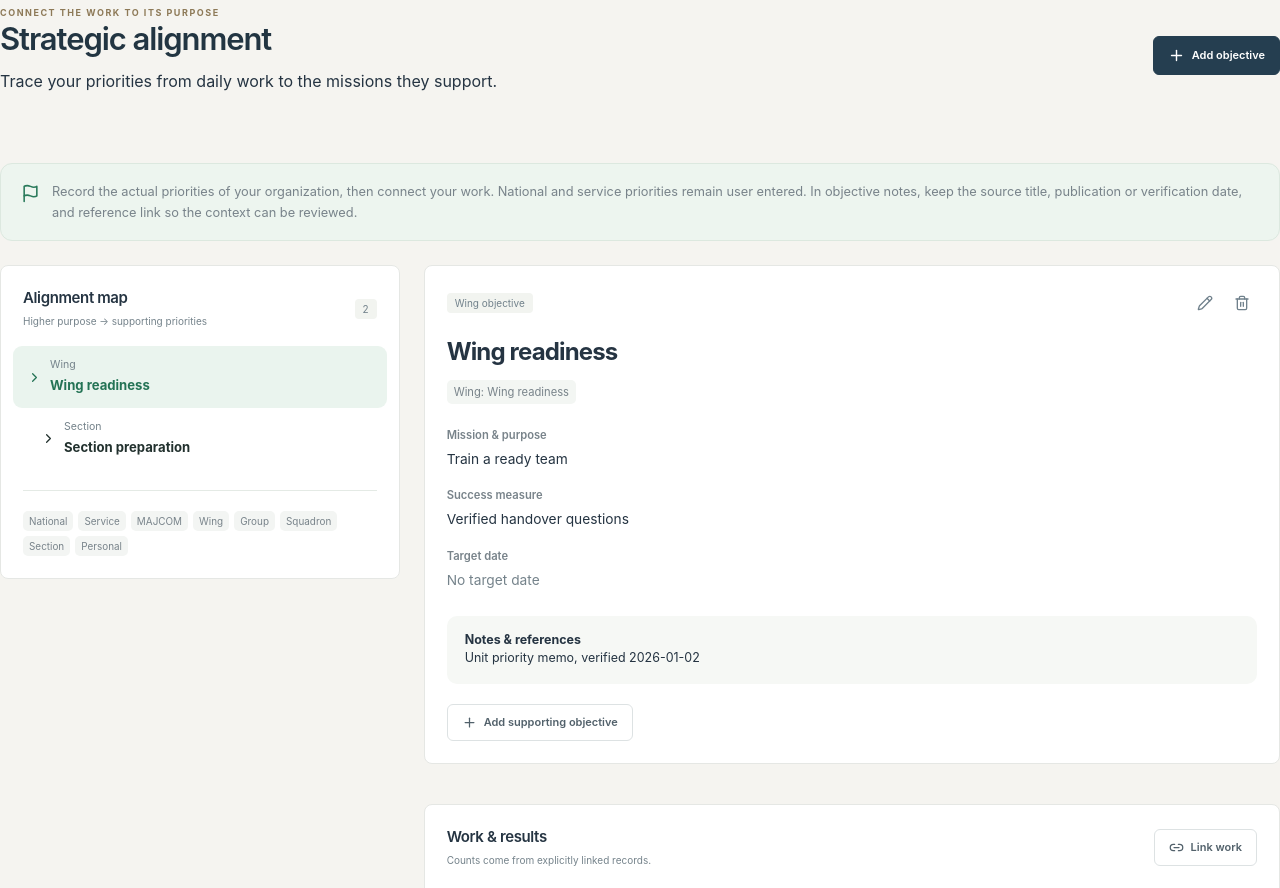
strategy alignment workflows › rejects a circular parent even if a disabled option is set programmatically
Click the button named "Edit objective: Wing readiness". click: (1205,303)
box: [1190, 288, 1220, 318]
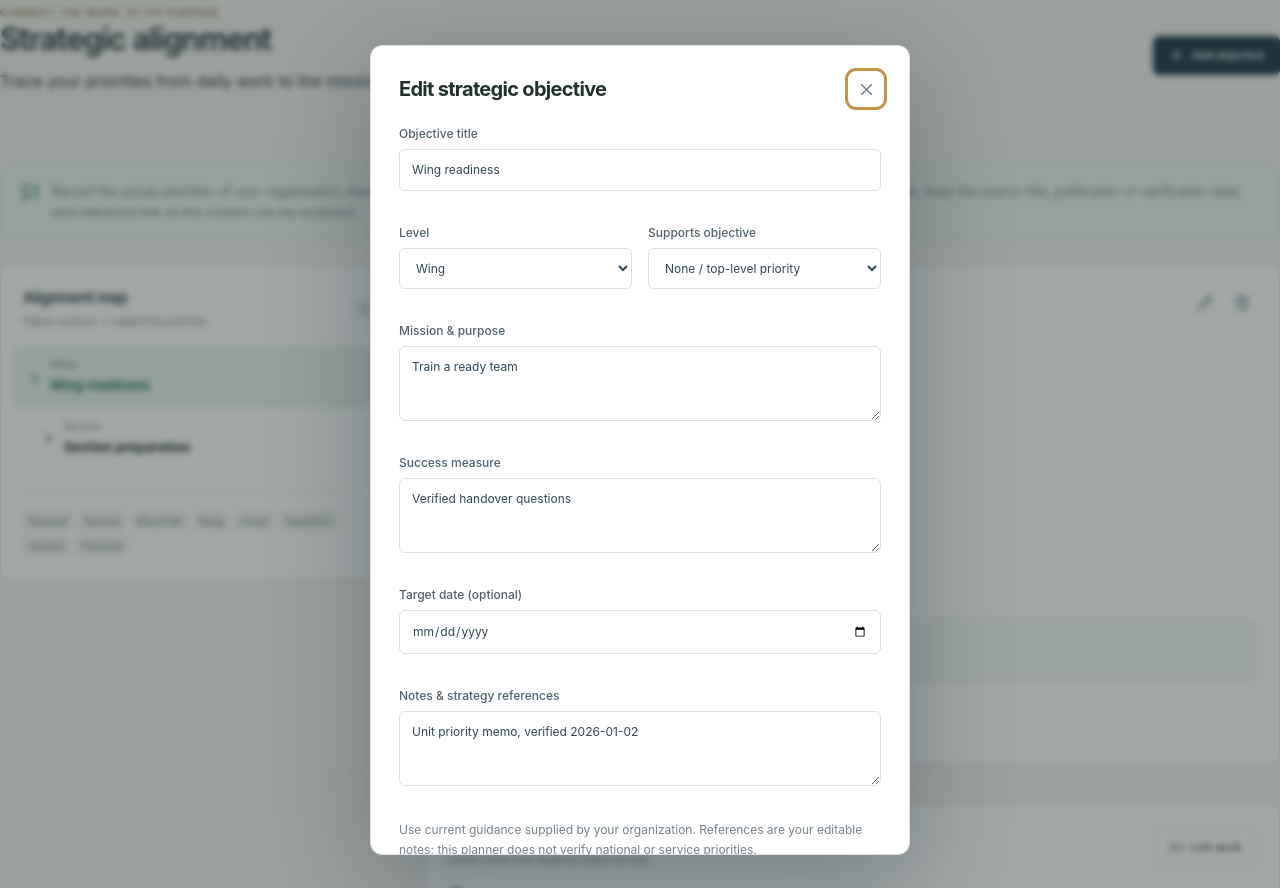
Select "Section: Section preparation" in the dropdown labelled "Supports objective". click: (764,268)
box: [648, 248, 881, 289]
(page scrolled)
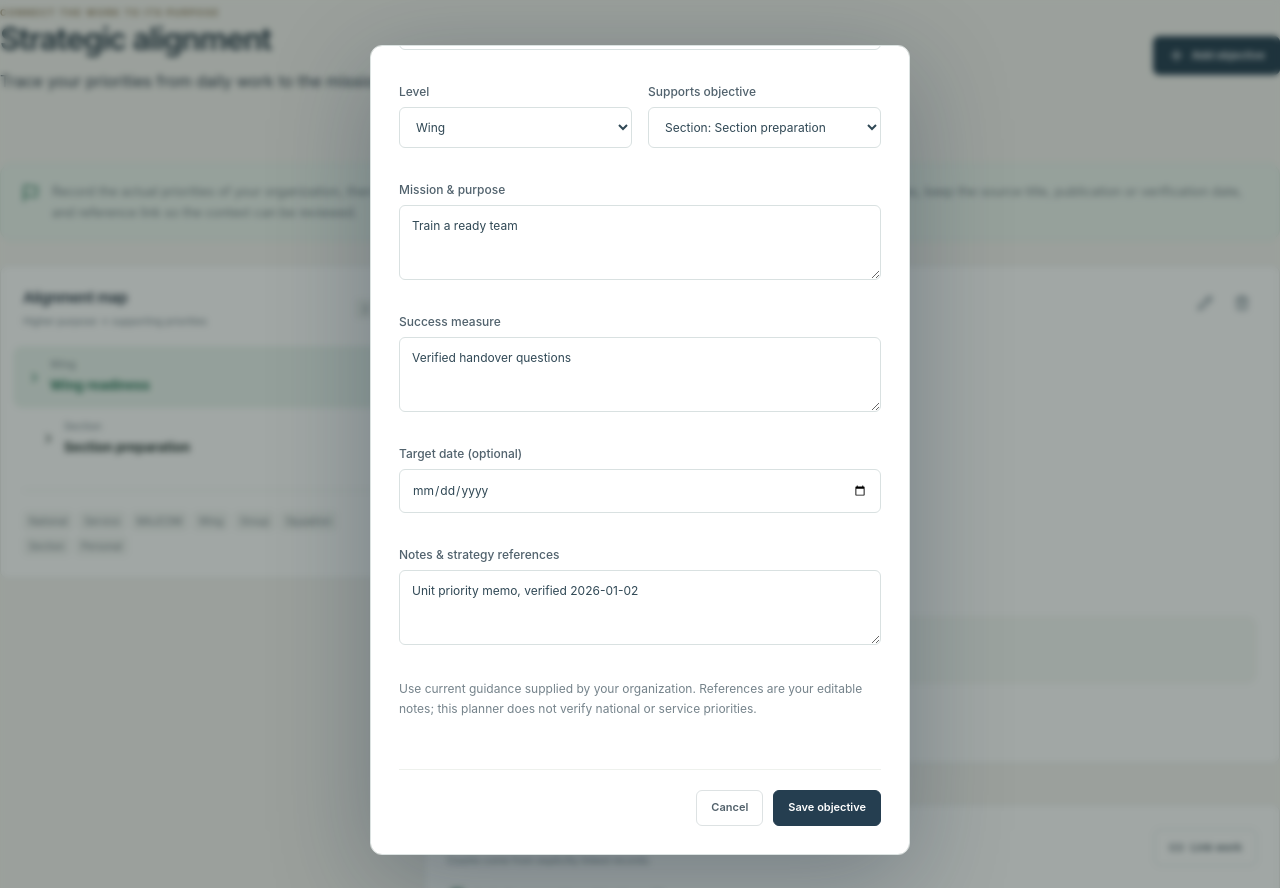
Click the button "Save objective". click: (827,808)
box: [773, 790, 881, 826]
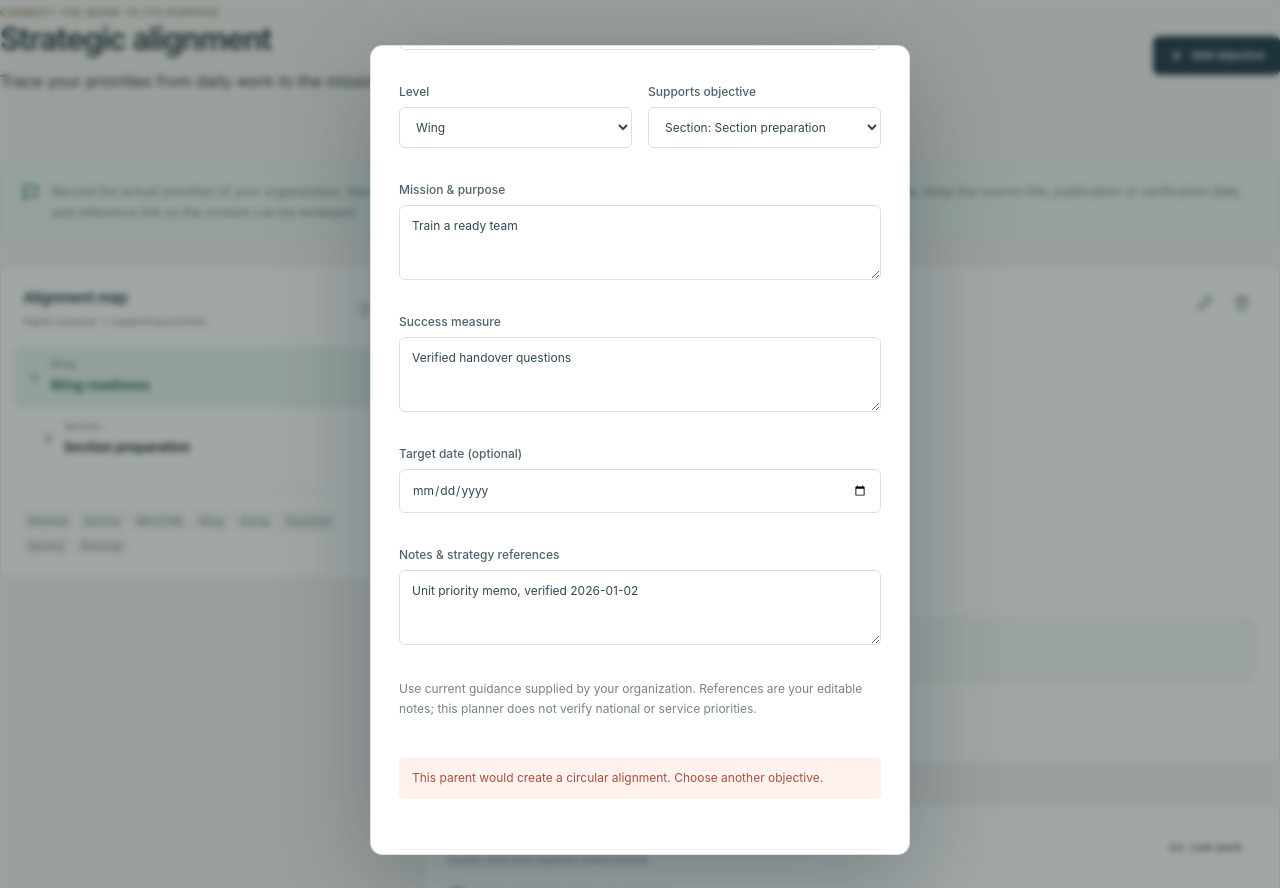
Check: the message shows "circular alignment", box [412, 770, 823, 785]
